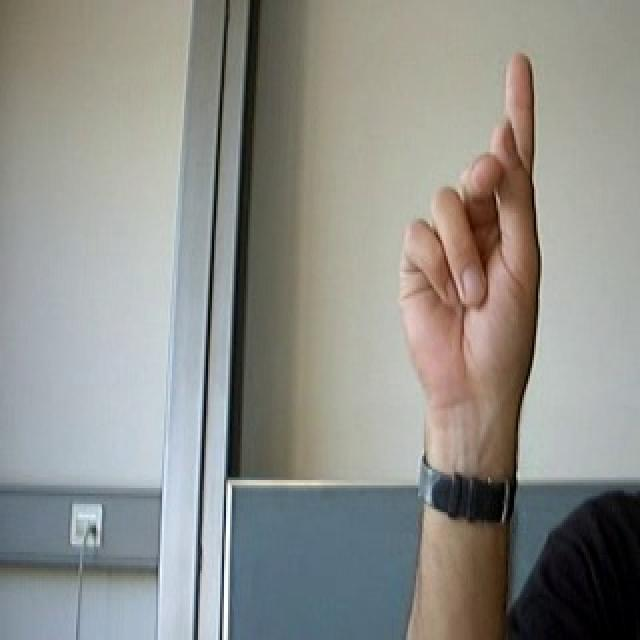K: (348, 30, 581, 465)
